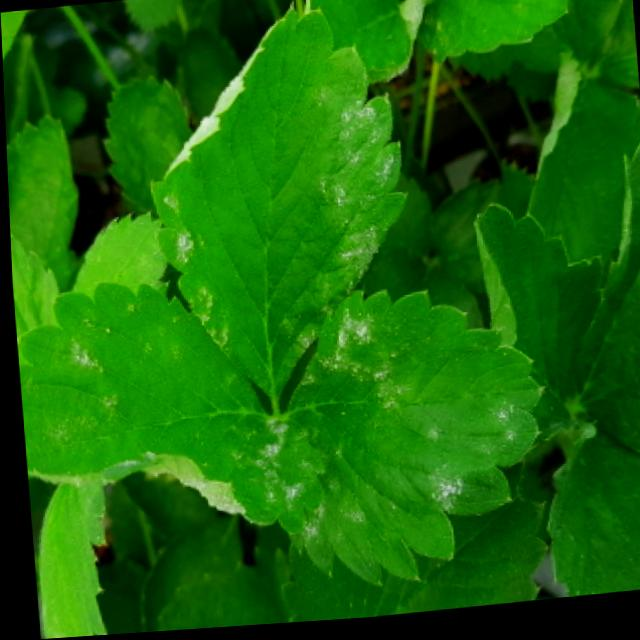Powdery Mildew Leaf: (145, 5, 409, 407), (256, 290, 543, 591), (12, 281, 276, 527), (300, 0, 427, 89), (418, 0, 571, 67)
